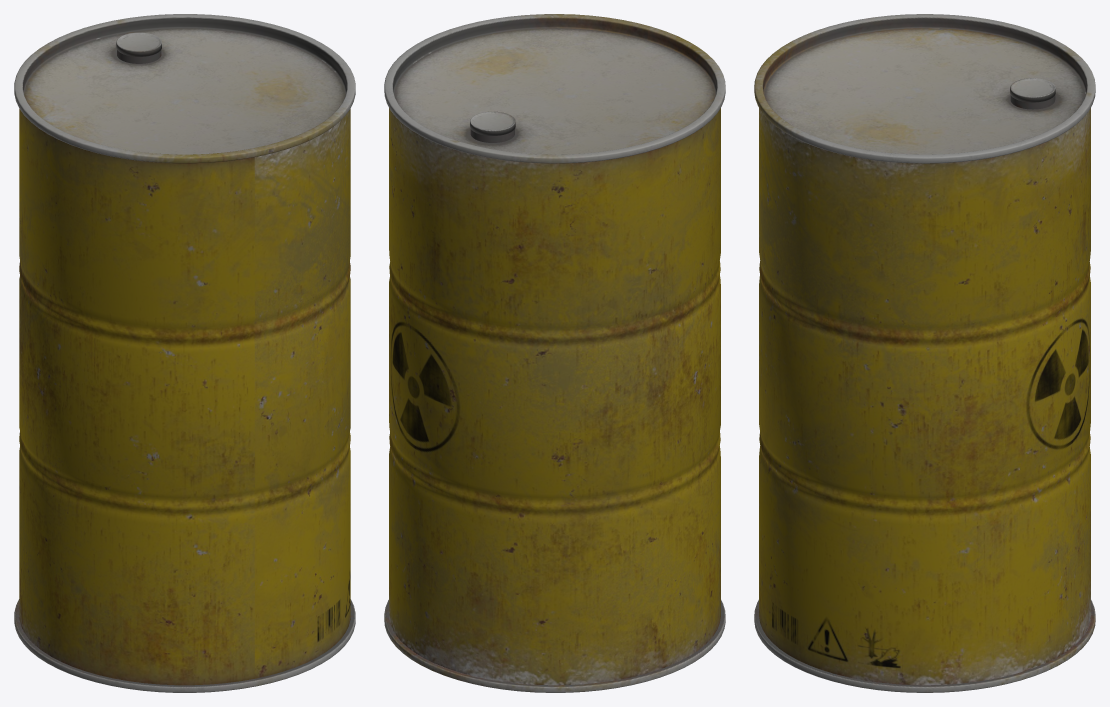
The model's file is barrel_3.glb.
3 views of the same model, side by side, from view 1: azimuth 30°, elevation 25°; view 2: azimuth 150°, elevation 25°; view 3: azimuth 270°, elevation 25° (orthographic).
Parts seen in each view (by area): view 1: Окружность.002, Окружность.003; view 2: Окружность.002, Окружность.003; view 3: Окружность.002, Окружность.003.
Part boxes in pixels (x1,y1,x2,y2): Окружность.002: (14, 14, 355, 692); Окружность.003: (116, 32, 161, 56); Окружность.002: (384, 14, 725, 692); Окружность.003: (470, 111, 515, 135); Окружность.002: (754, 14, 1095, 692); Окружность.003: (1010, 78, 1055, 102).
Size of the model in its own units: 0.6087 by 1.06 by 0.6087.
1 material, 1 textured.
